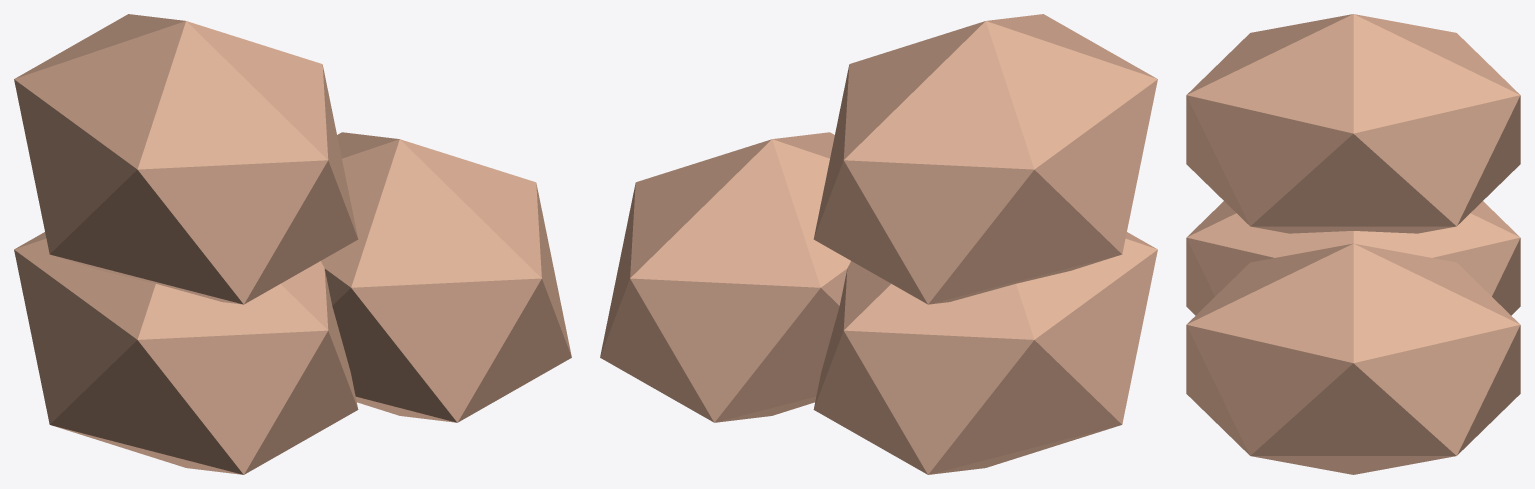
The model's file is cargo_clay.fbx.
3 views of the same model, side by side, from view 1: azimuth 30°, elevation 25°; view 2: azimuth 150°, elevation 25°; view 3: azimuth 270°, elevation 25° (orthographic). The views are drawn at different scales.
Parts seen in each view (by area): view 1: cargo_clay_mesh; view 2: cargo_clay_mesh; view 3: cargo_clay_mesh.
Boxes of the visible parts, x1,y1,x2,y2 form: cargo_clay_mesh: [14, 14, 571, 474]; cargo_clay_mesh: [600, 14, 1157, 474]; cargo_clay_mesh: [1186, 14, 1520, 474].
Size of the model in its own units: 0.4783 by 0.42 by 0.3403.
